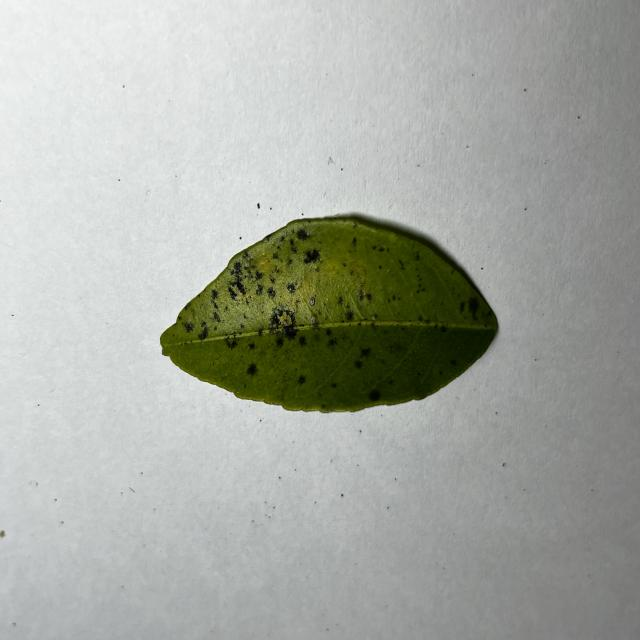sooty_mold: (161, 218, 497, 411)
